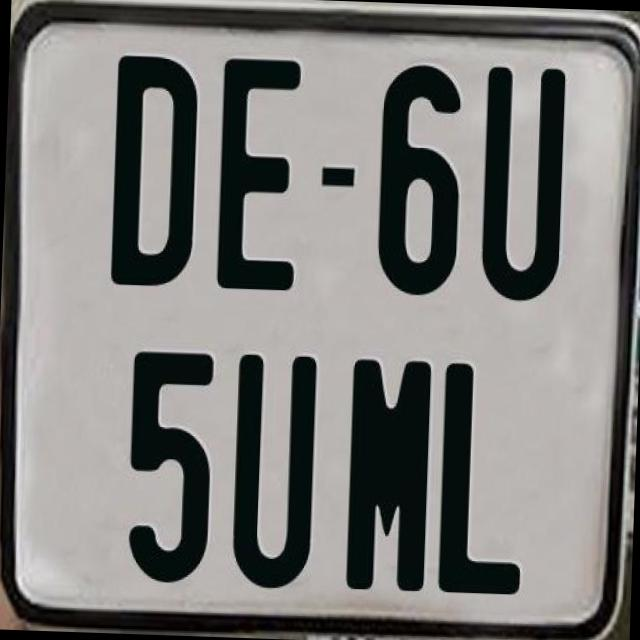5: (124, 347, 218, 584)
6: (376, 60, 466, 302)
D: (110, 51, 202, 286)
E: (213, 54, 301, 296)
L: (437, 360, 532, 600)
M: (341, 354, 427, 598)
U: (230, 350, 324, 596), (478, 65, 568, 308)
